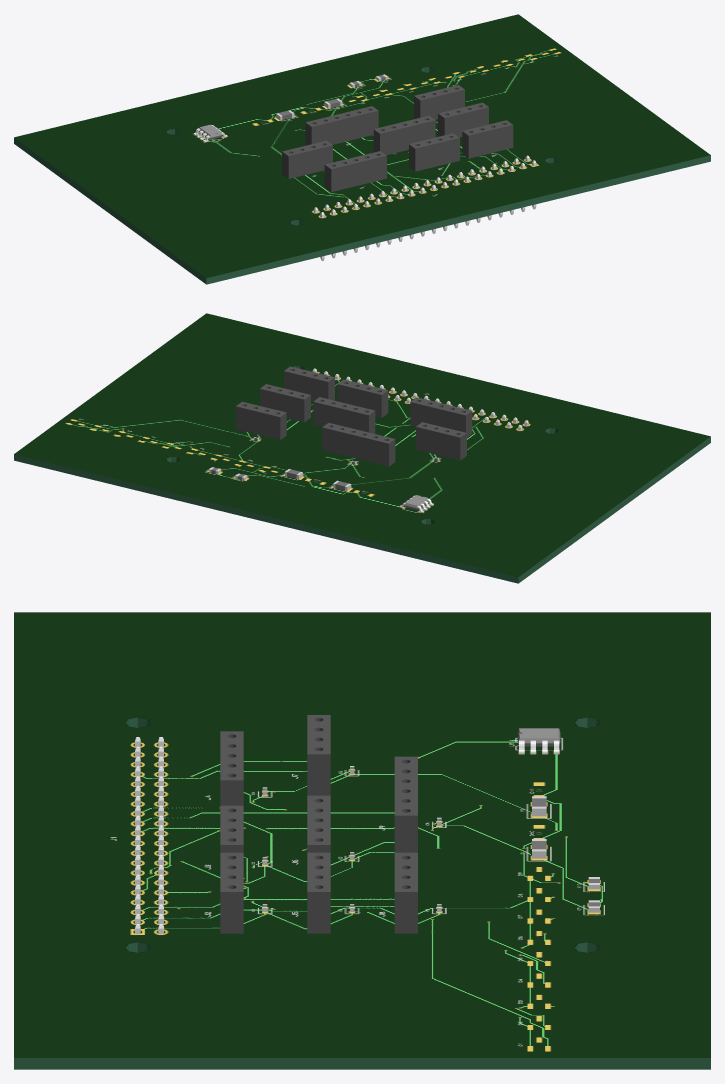
The model's file is t2-board.glb.
3 renders of one model, top to bottom at view 1: azimuth 30°, elevation 25°; view 2: azimuth 150°, elevation 25°; view 3: azimuth 270°, elevation 25°, orthographic. The views are drawn at different scales.
Parts seen in each view (by area): view 1: Box0, J9, J4, J6, J2, J3, J1, J7, J5, J8; view 2: Box0, J9, J6, J4, J8, J7, J5, J3, J2, J1; view 3: Box0, J9, J1, J2, J5, J8, J7, J4, J6, J3, U1.
Boxes of the visible parts, <box> form: Box0: <box>14,14,710,284</box>; J9: <box>305,106,378,145</box>; J4: <box>324,151,386,192</box>; J6: <box>373,115,435,155</box>; J2: <box>462,120,513,158</box>; J3: <box>409,133,459,171</box>; J1: <box>314,155,536,260</box>; J7: <box>282,140,332,178</box>; J5: <box>438,102,488,137</box>; J8: <box>414,85,464,119</box>; Box0: <box>14,313,710,583</box>; J9: <box>322,422,395,466</box>; J6: <box>313,397,375,433</box>; J4: <box>410,397,472,437</box>; J8: <box>235,401,286,439</box>; J7: <box>416,422,466,460</box>; J5: <box>260,384,310,422</box>; J3: <box>337,379,388,417</box>; J2: <box>284,366,334,401</box>; J1: <box>312,368,528,430</box>; Box0: <box>14,612,710,1069</box>; J9: <box>394,756,417,852</box>; J1: <box>135,737,163,933</box>; J2: <box>220,852,243,933</box>; J5: <box>307,852,330,933</box>; J8: <box>394,852,417,933</box>; J7: <box>307,715,330,795</box>; J4: <box>220,731,243,805</box>; J6: <box>307,795,330,852</box>; J3: <box>220,805,243,852</box>; U1: <box>518,728,560,754</box>.
Size of the model in its own units: 115 by 14.6 by 76.
Materials: 9 (2 with a texture image).
